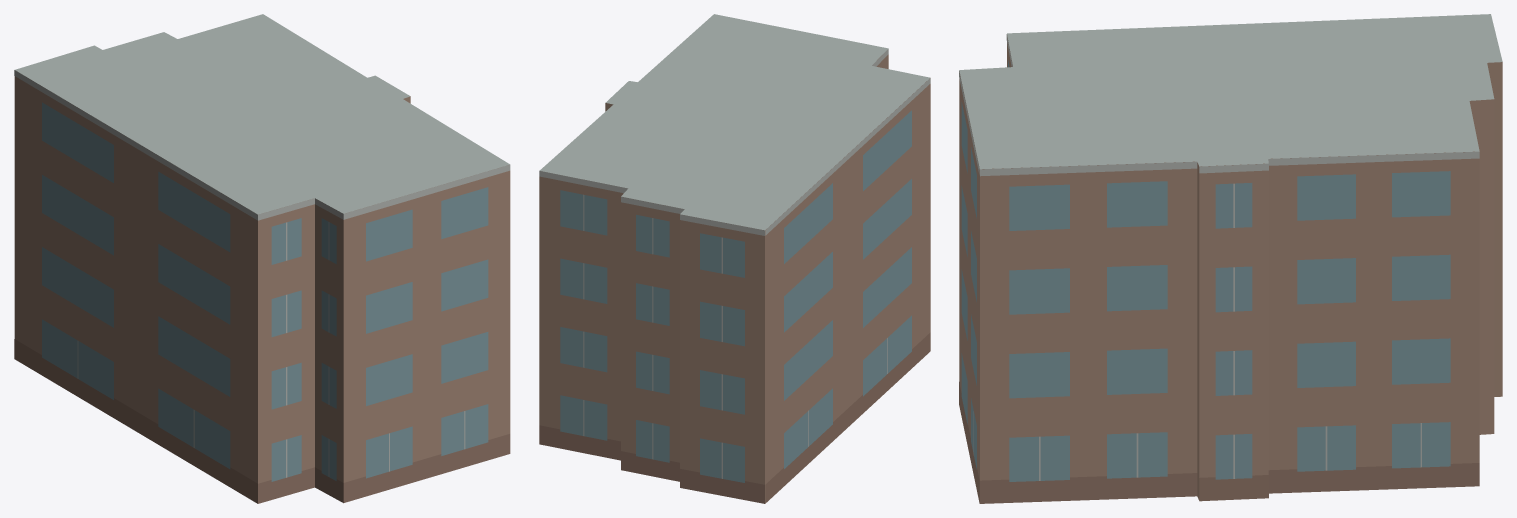
File: survey-upis-32929224.glb
3 renders of one model, left to right at view 1: azimuth 30°, elevation 25°; view 2: azimuth 150°, elevation 25°; view 3: azimuth 270°, elevation 25°, orthographic. The views are drawn at different scales.
Parts seen in each view (by area): view 1: survey-upis-32929224.tmp; view 2: survey-upis-32929224.tmp; view 3: survey-upis-32929224.tmp.
Boxes of the visible parts, bbox=[...] form: survey-upis-32929224.tmp: bbox=[14, 14, 510, 503]; survey-upis-32929224.tmp: bbox=[539, 14, 930, 503]; survey-upis-32929224.tmp: bbox=[959, 14, 1502, 503].
Bounding box in the file's own units: 11.65 × 11.7 × 17.23.
